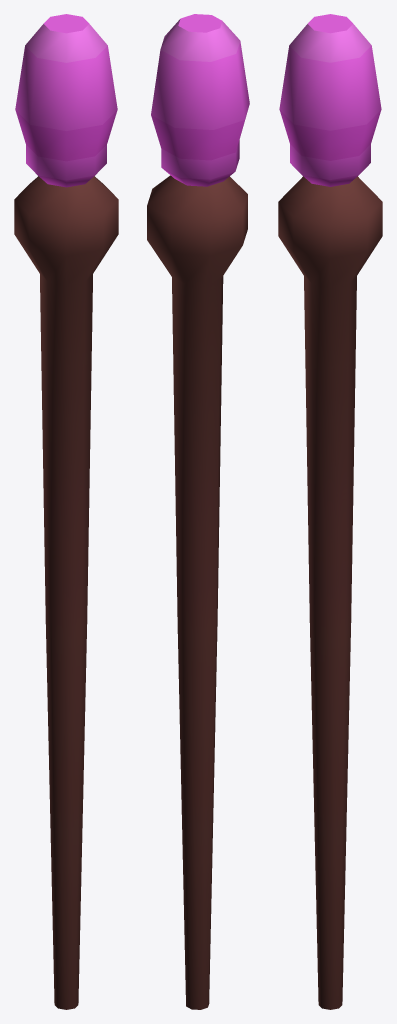
Rendered from GuanesGoranchachaBaston.fbx.
3 renders of one model, left to right at view 1: azimuth 90°, elevation 25°; view 2: azimuth 150°, elevation 25°; view 3: azimuth 270°, elevation 25°, orthographic.
Visible parts, largest first — view 1: GuanesGoranchachaBaston; view 2: GuanesGoranchachaBaston; view 3: GuanesGoranchachaBaston.
Boxes of the visible parts, box(x1,y1,x2,y2) form: GuanesGoranchachaBaston: box(14, 14, 118, 1009); GuanesGoranchachaBaston: box(147, 14, 249, 1009); GuanesGoranchachaBaston: box(278, 14, 382, 1009).
Bounding box in the file's own units: 24.02 × 244 × 23.54.
1 material, 1 textured.
